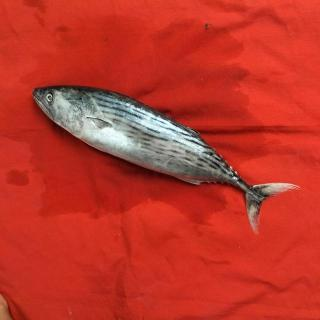Ikan: (24, 74, 302, 246)
